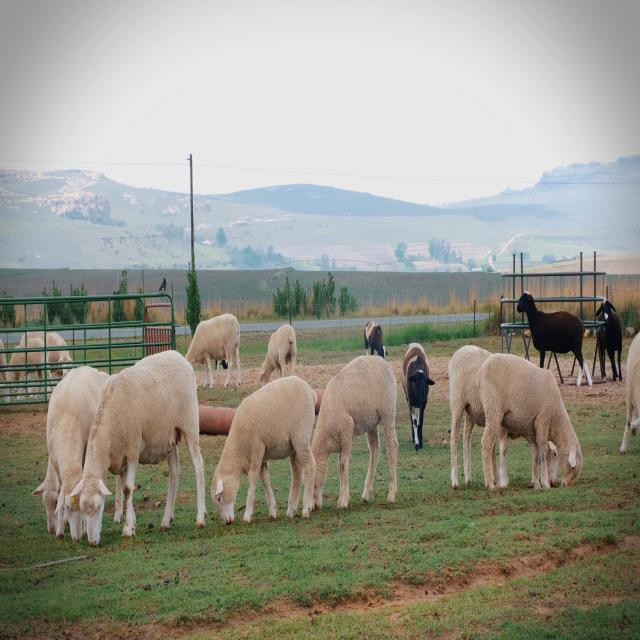sheep: (80, 346, 209, 549), (476, 330, 589, 509), (211, 356, 320, 536)
